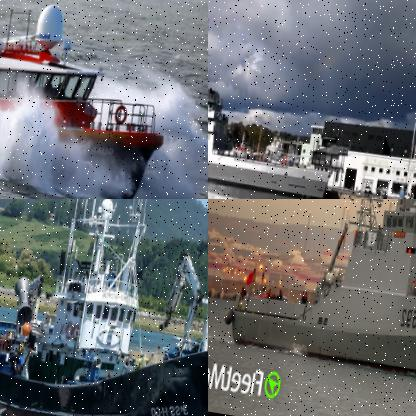Fishing Boat: (0, 199, 207, 415)
Military Ship: (219, 199, 415, 395), (208, 0, 350, 198)
Patrol Boat: (0, 0, 195, 198)
